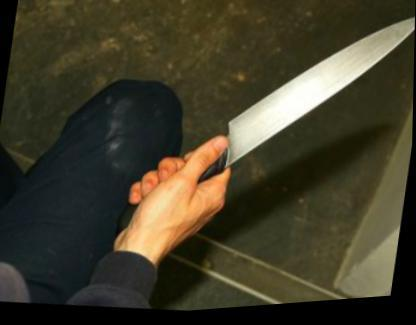knife: (124, 0, 414, 245)
